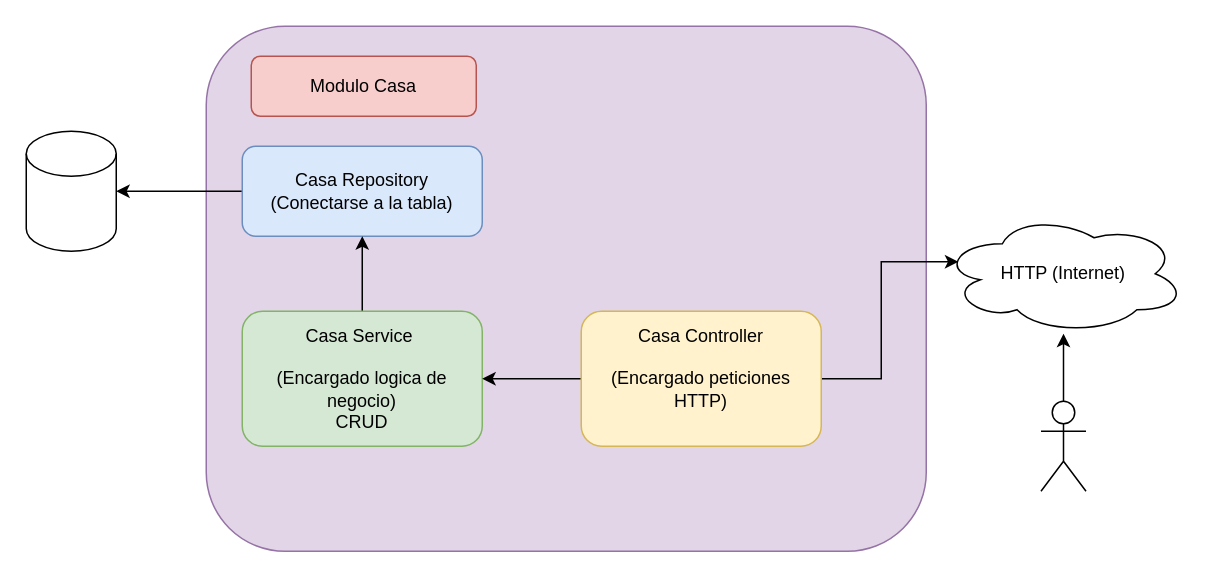
The diagram is 1212 pixels wide and 578 high, and some of its shapes have lost their labels. Each missing label, with the box of its shape:
Sqlite: (25, 130, 116, 251)
Usuario: (1040, 400, 1086, 491)
